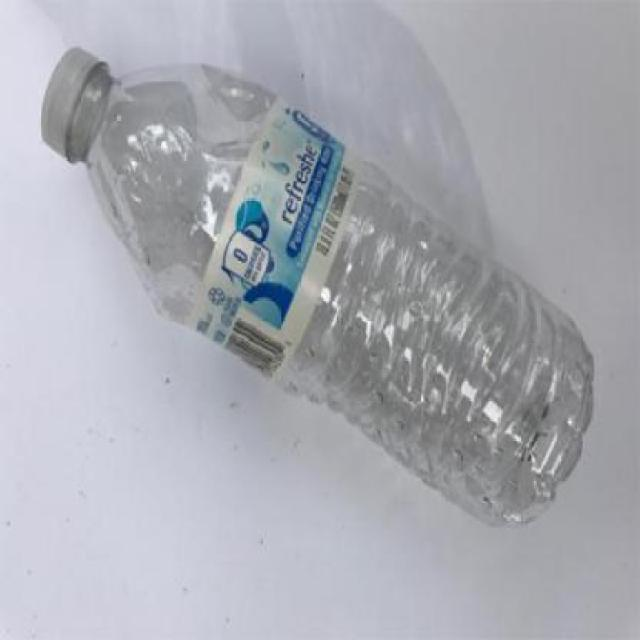Plastic: (40, 42, 597, 525)
